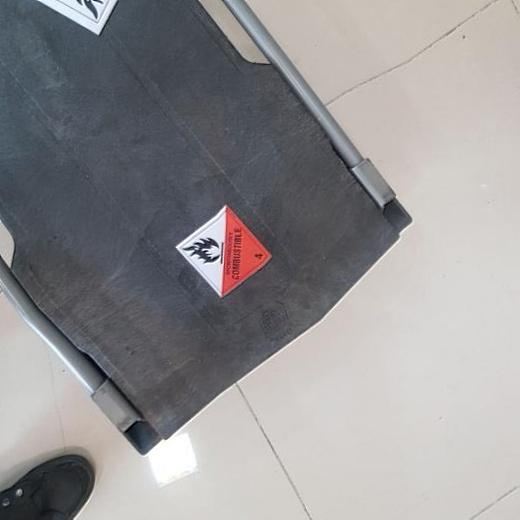spontaneously-combustible: (175, 205, 270, 297)
